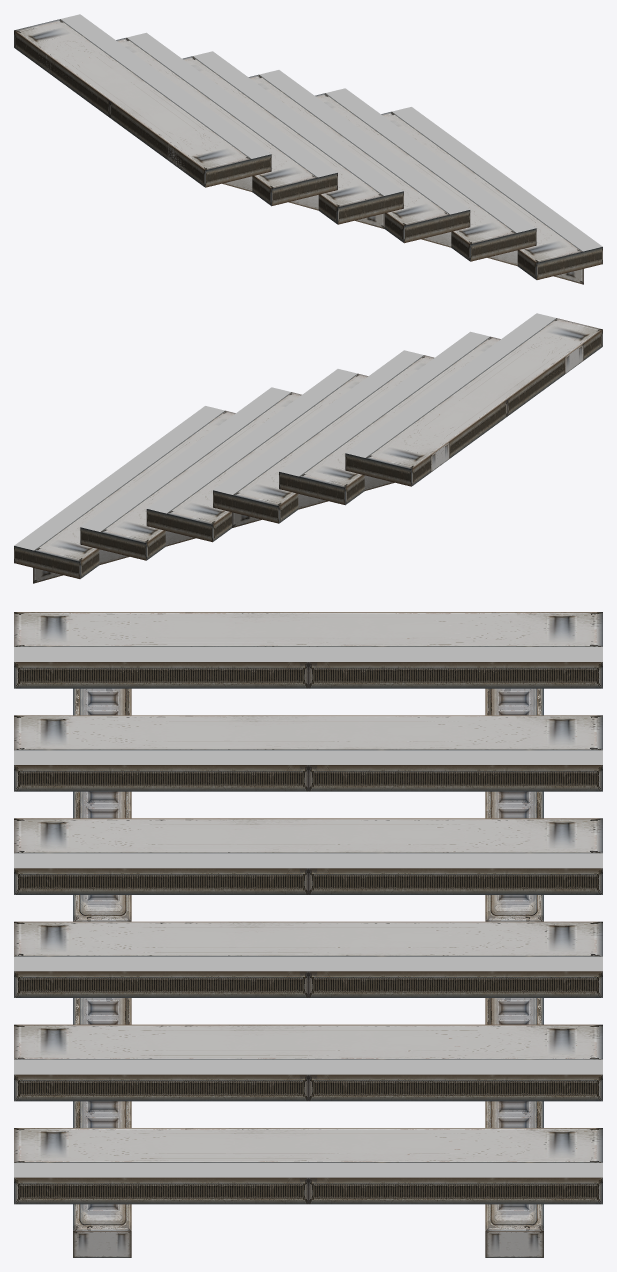
File: scifi_stairs_2.FBX
The picture shows the model from 3 angles, top to bottom: view 1: azimuth 30°, elevation 25°; view 2: azimuth 150°, elevation 25°; view 3: azimuth 270°, elevation 25°; orthographic projection. The views are drawn at different scales.
Parts seen in each view (by area): view 1: Plane339; view 2: Plane339; view 3: Plane339.
Part boxes in pixels (bbox=[...]): Plane339: bbox=[14, 14, 602, 284]; Plane339: bbox=[14, 313, 602, 583]; Plane339: bbox=[14, 612, 602, 1257].
Bounding box in the file's own units: 305 × 165 × 254.
